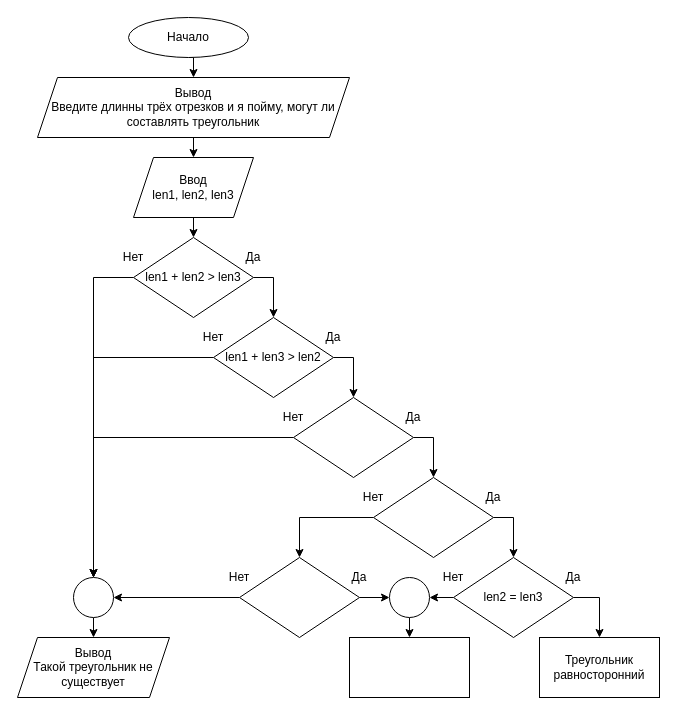
Image size: 677x715. Some labels were removed from this diagram. Each missing label, with the box of its shape:
len1 = len2: (372, 476, 494, 558)
len1 = len3: (238, 556, 360, 638)
len2 + len3 > len1: (292, 396, 414, 478)
Треугольник равнобедренный: (348, 636, 470, 698)
